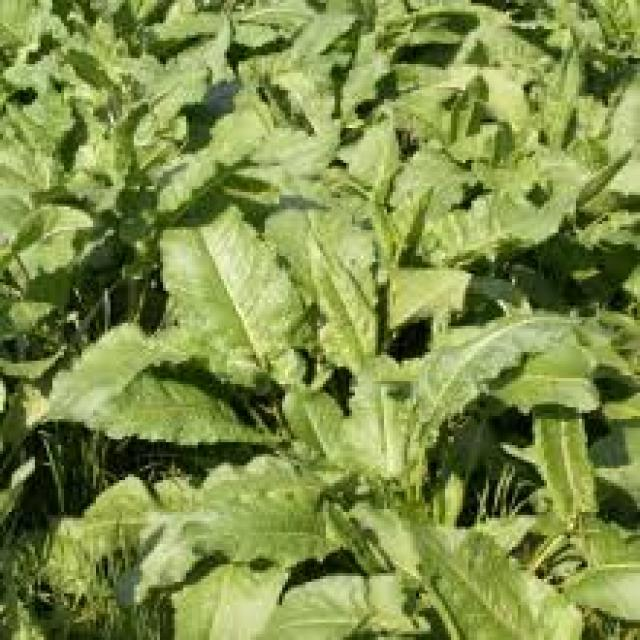organic waste: (0, 0, 640, 640), (82, 180, 573, 640), (0, 67, 236, 410), (407, 0, 640, 198), (264, 0, 480, 212), (23, 0, 245, 163)
